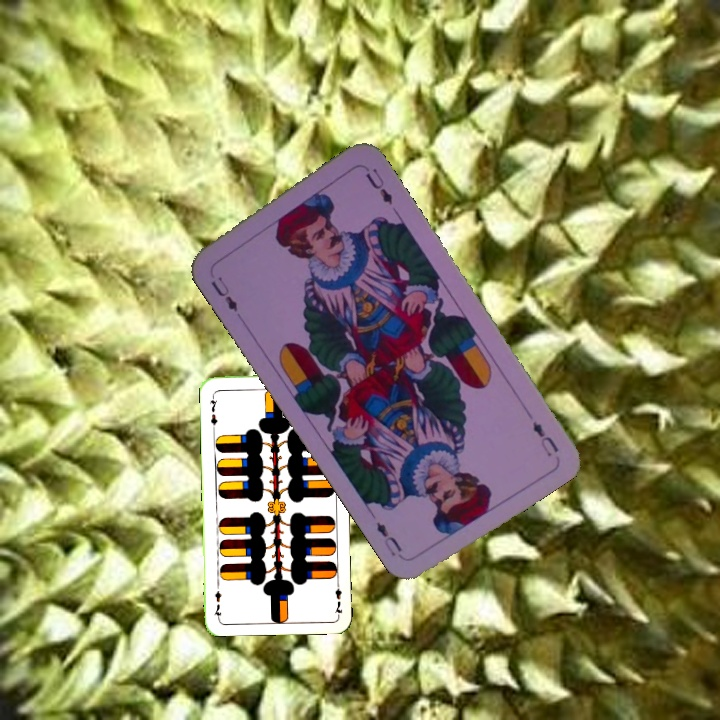E7: (205, 391, 220, 431), (331, 577, 345, 617)
EU: (206, 272, 241, 315), (528, 417, 562, 460)
